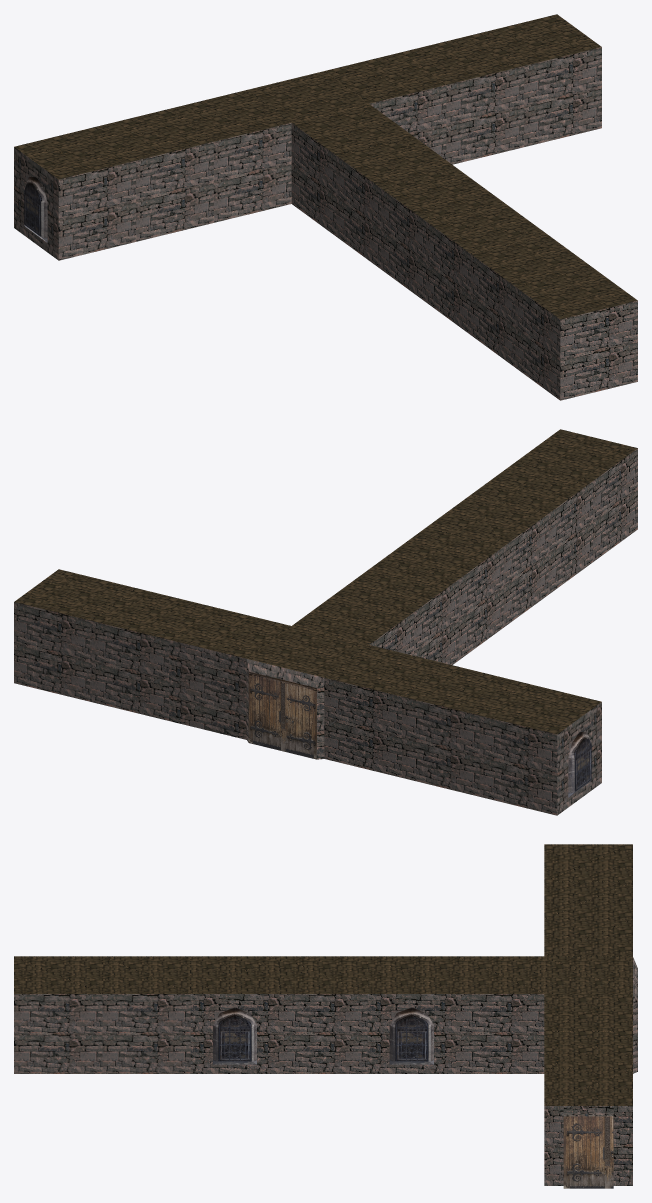
Rendered from corridor_bake4b2.fbx.
3 views of the same model, one above another, from view 1: azimuth 30°, elevation 25°; view 2: azimuth 150°, elevation 25°; view 3: azimuth 270°, elevation 25° (orthographic).
Visible parts, largest first — view 1: Corridor_bake, Ceiling_bake; view 2: Corridor_bake, Ceiling_bake; view 3: Corridor_bake, Ceiling_bake.
Boxes of the visible parts, left/top/right/bottom form: Corridor_bake: left=14, top=47, right=637, bottom=400; Ceiling_bake: left=14, top=14, right=637, bottom=319; Corridor_bake: left=14, top=448, right=637, bottom=815; Ceiling_bake: left=14, top=429, right=637, bottom=734; Corridor_bake: left=14, top=957, right=637, bottom=1188; Ceiling_bake: left=14, top=844, right=632, bottom=1105.
Bounding box in the file's own units: 1424 × 200 × 1412.
